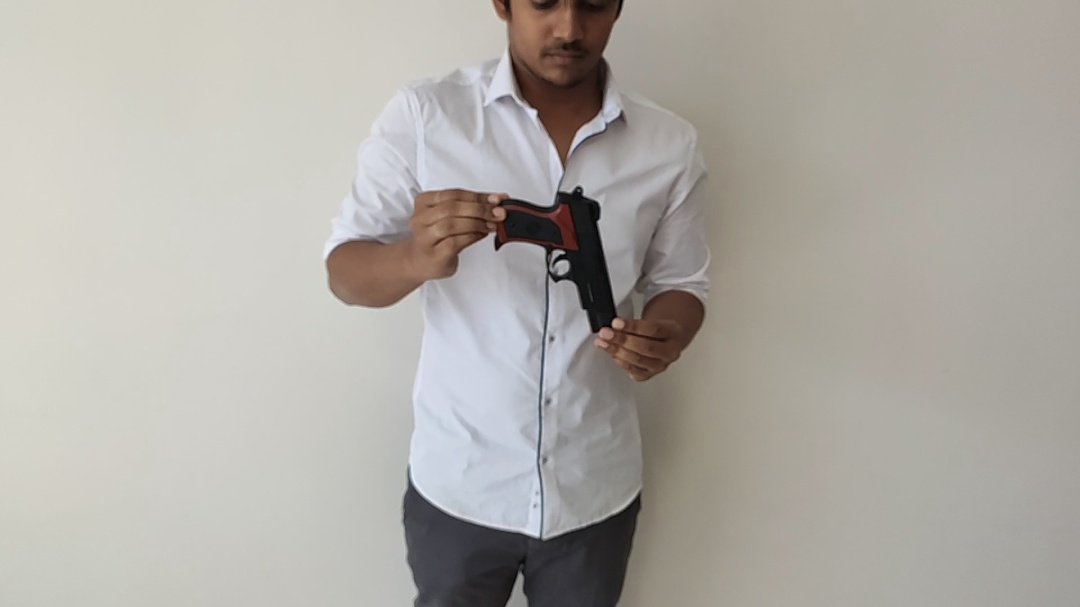gun: (494, 186, 617, 332)
